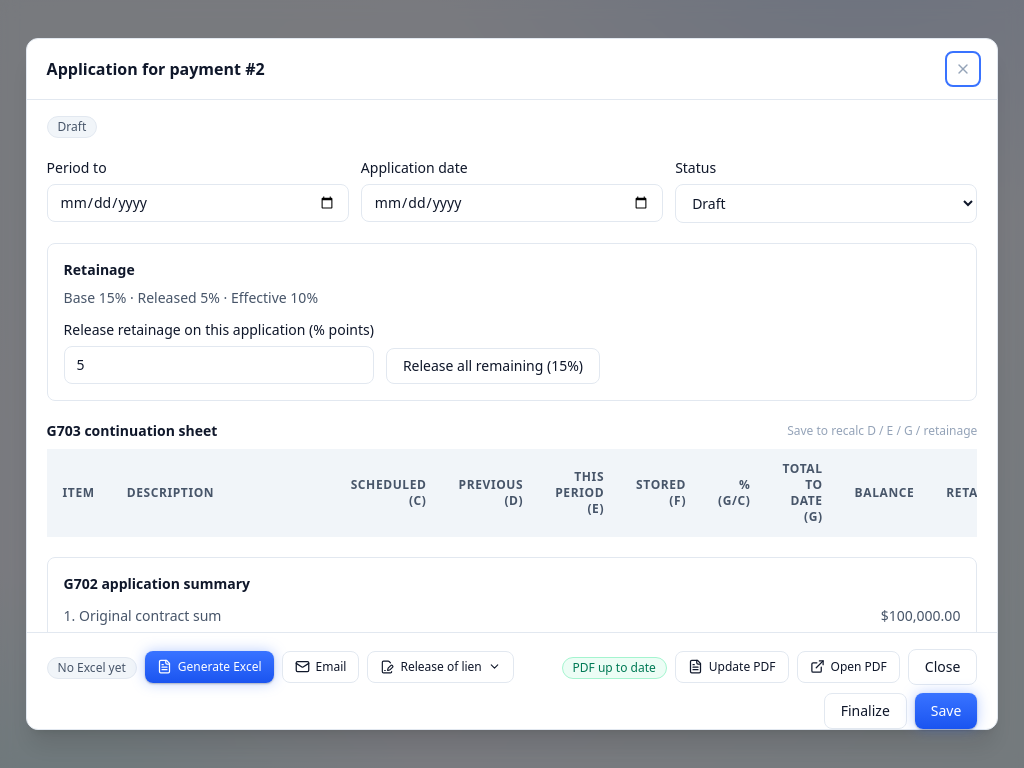
it: AiaPayAppEditor — Make PDF (ONLYOFFICE Phase 4) › offers Update PDF and Open PDF once there is one, and reports a failure
This screenshot has width=1024, height=768.
Expected: the button with test id "payapp-open-pdf" is shown, [796,651,900,683]
Click the button with test id "payapp-make-pdf". click: point(732, 667)
box: [675,651,788,683]
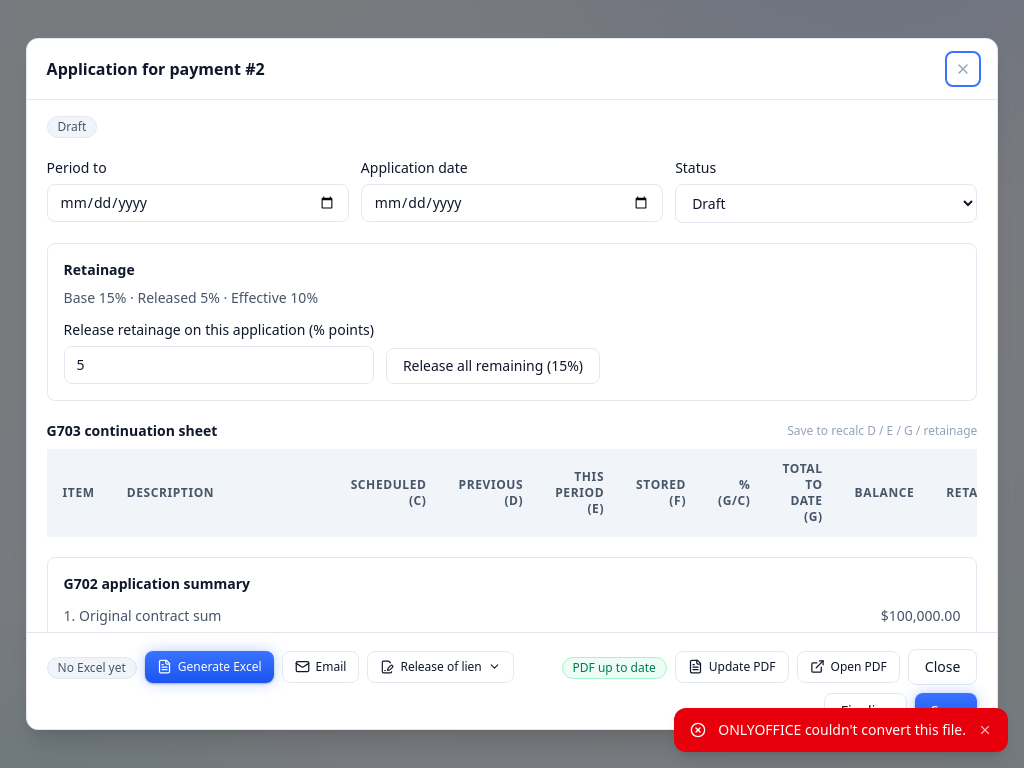
Expected: the text "ONLYOFFICE couldn't convert this file." is shown, [718,720,966,740]
